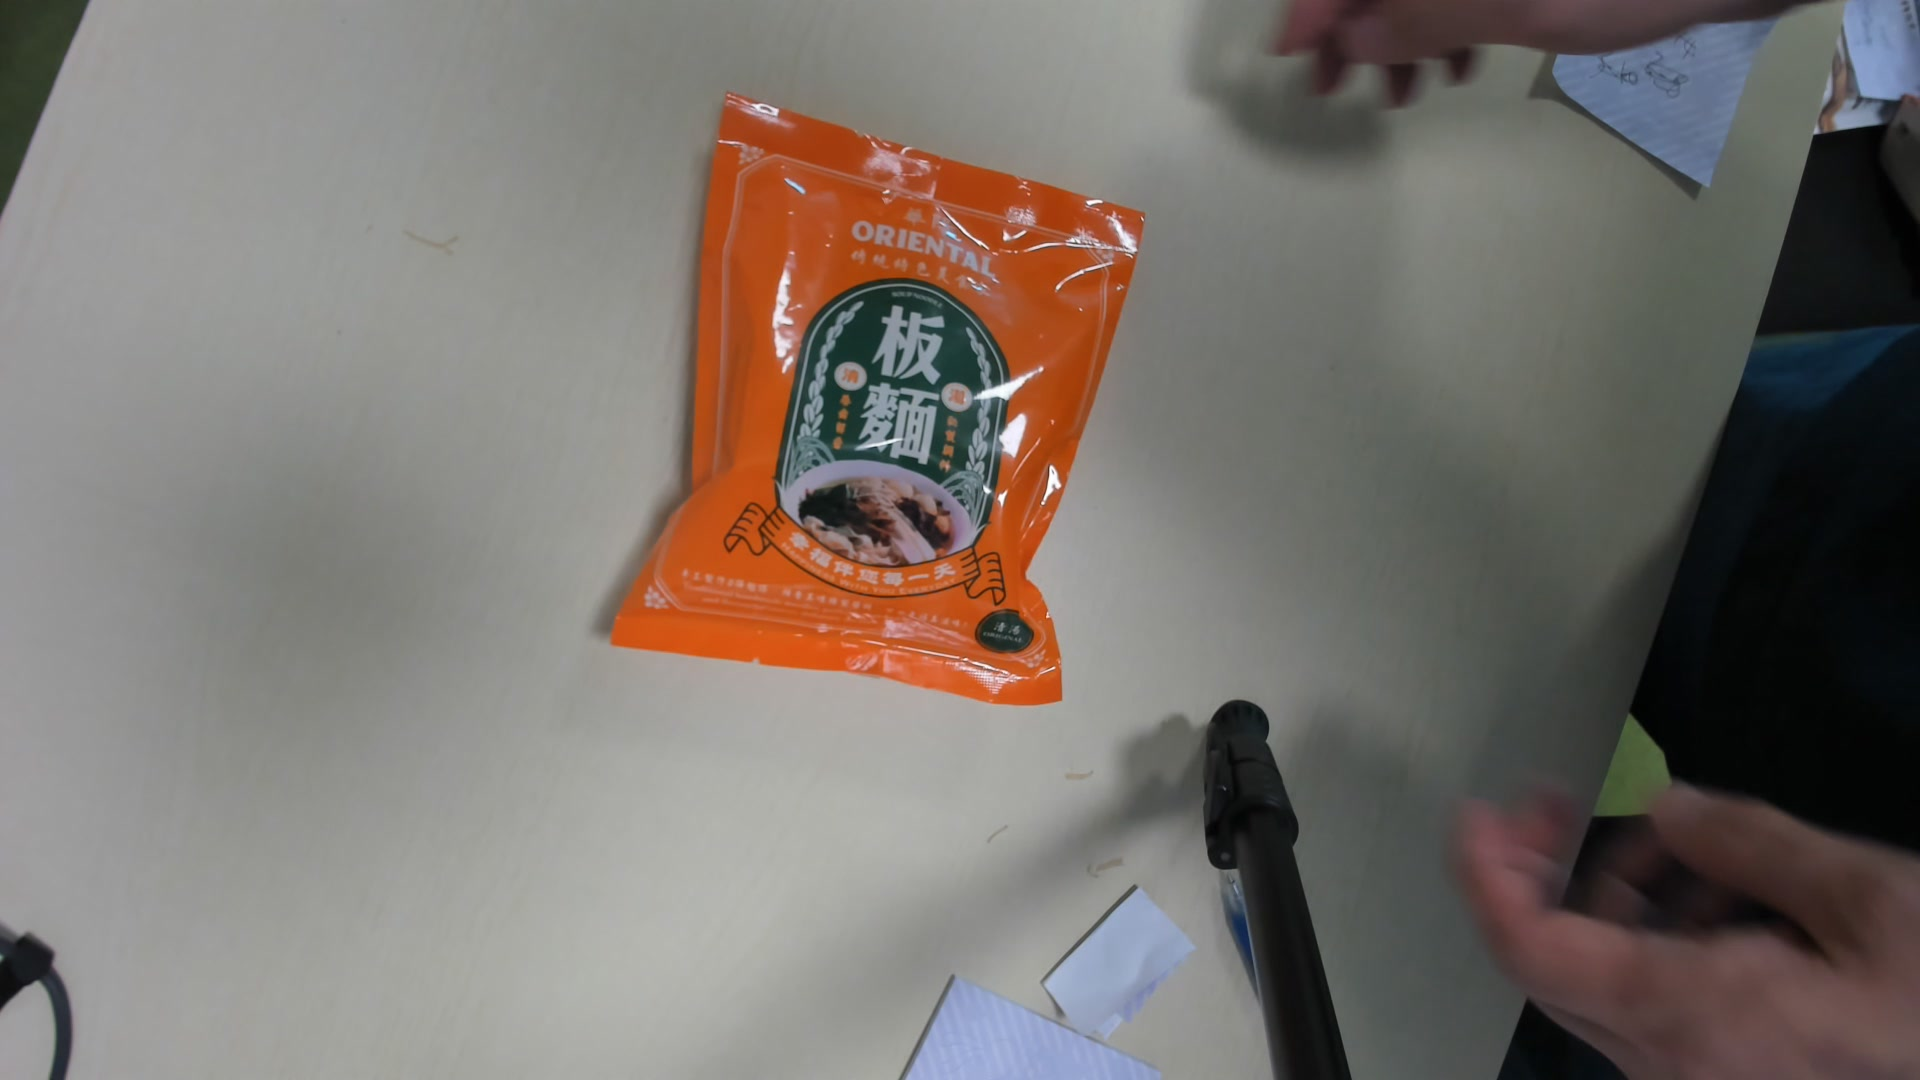InstantMeals_100-199g_NonHalal_Healthy: (607, 87, 1149, 703)
